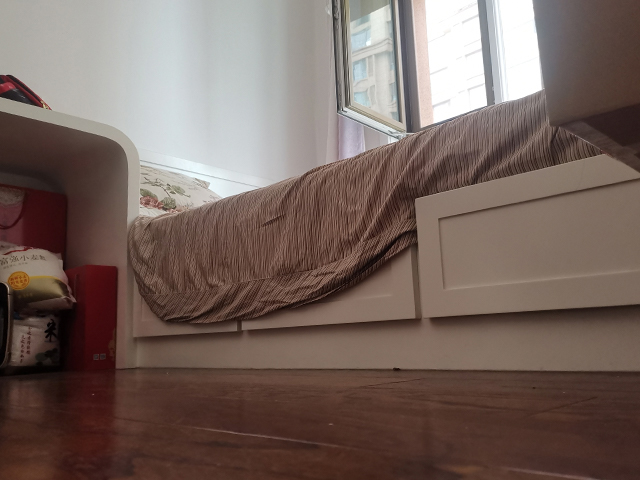bed: (125, 89, 640, 374)
